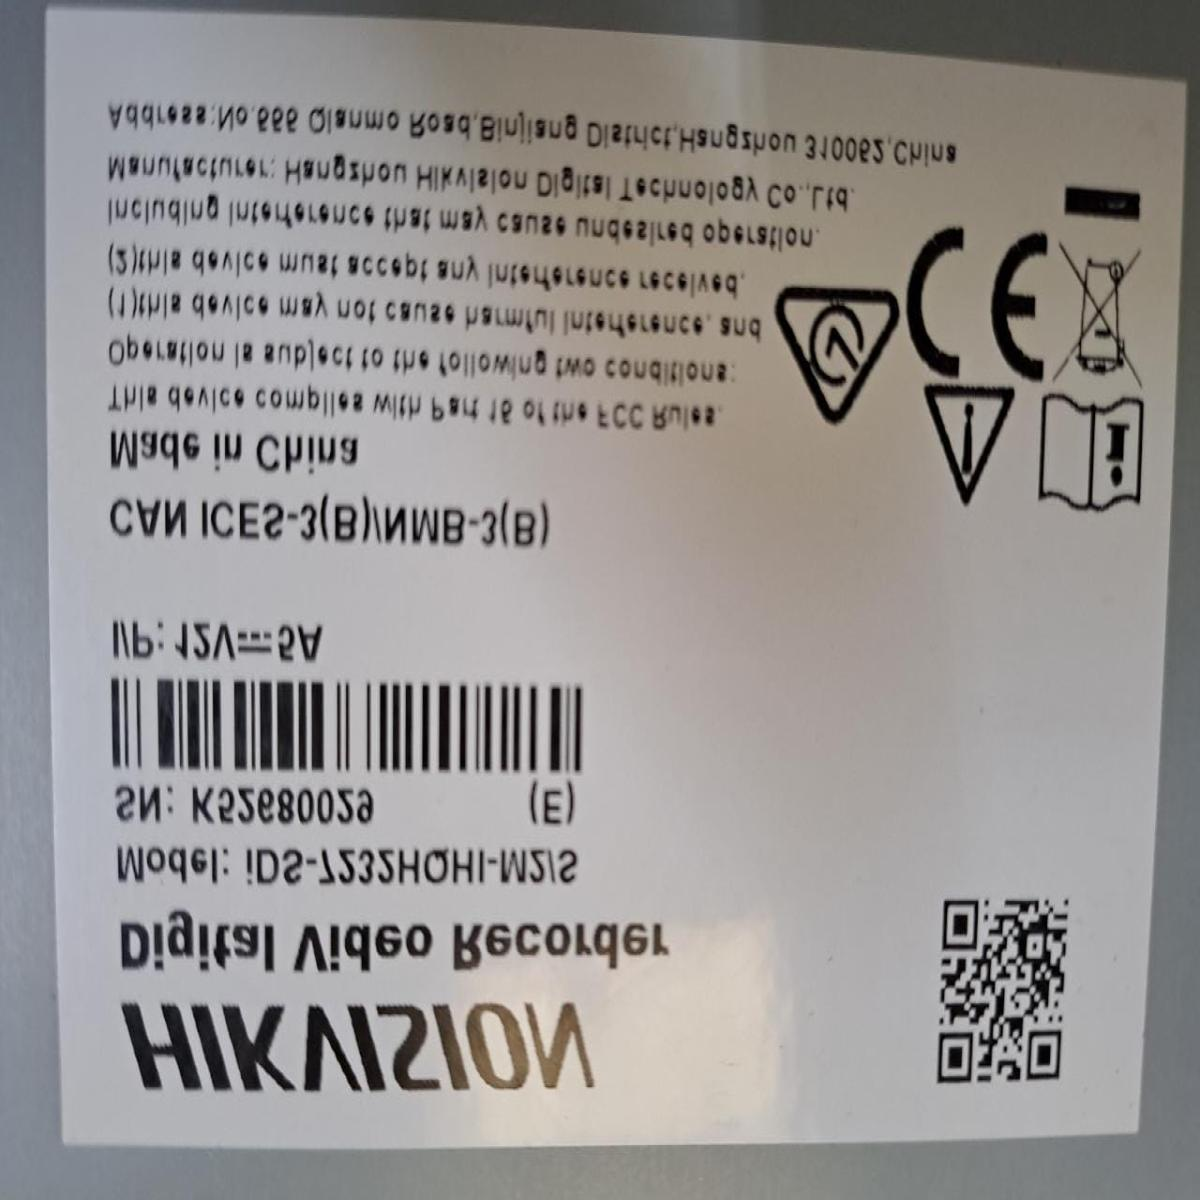Barcode: (92, 657, 602, 778)
Label: (49, 7, 1184, 1143)
